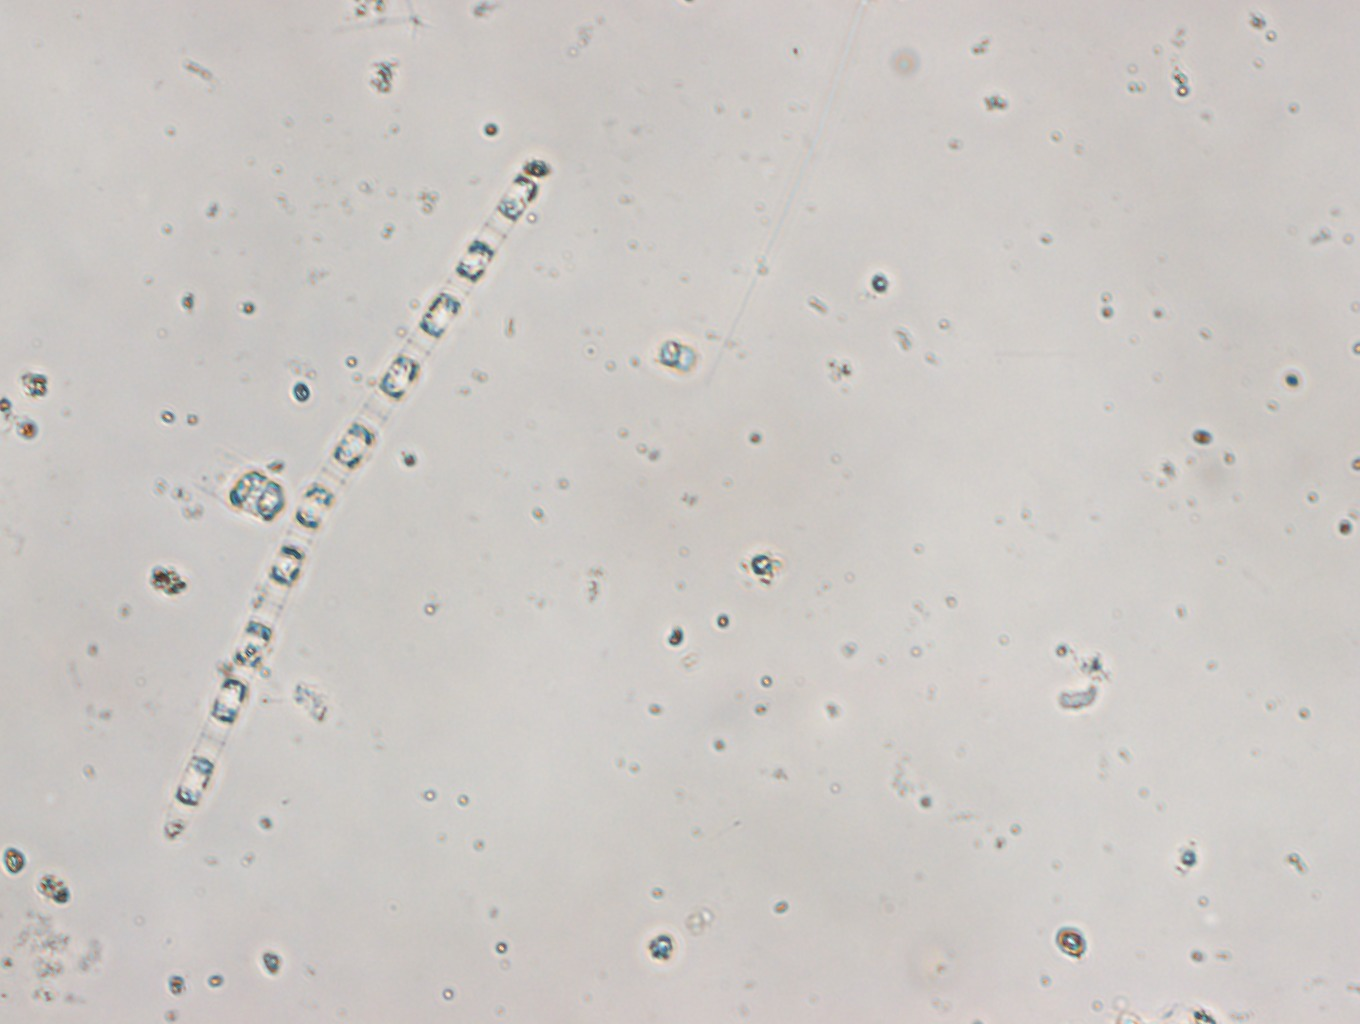skeletonema: (161, 173, 543, 841)
